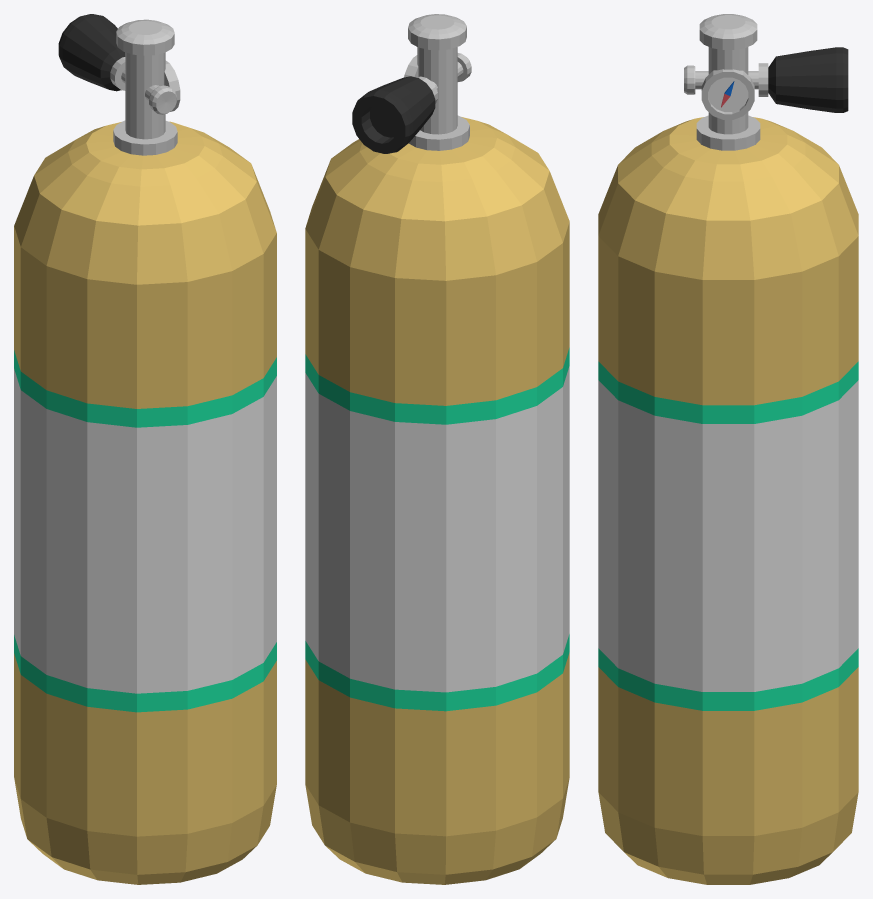
The model's file is Oxygen tank.fbx.
The picture shows the model from 3 angles, left to right: view 1: azimuth 30°, elevation 25°; view 2: azimuth 150°, elevation 25°; view 3: azimuth 270°, elevation 25°; orthographic projection.
Parts seen in each view (by area): view 1: Oxygen_Tank; view 2: Oxygen_Tank; view 3: Oxygen_Tank.
Part boxes in pixels (x1,y1,x2,y2): Oxygen_Tank: [14, 14, 276, 884]; Oxygen_Tank: [305, 14, 569, 884]; Oxygen_Tank: [598, 14, 858, 884].
Bounding box in the file's own units: 26.8 × 92.9 × 26.8.
